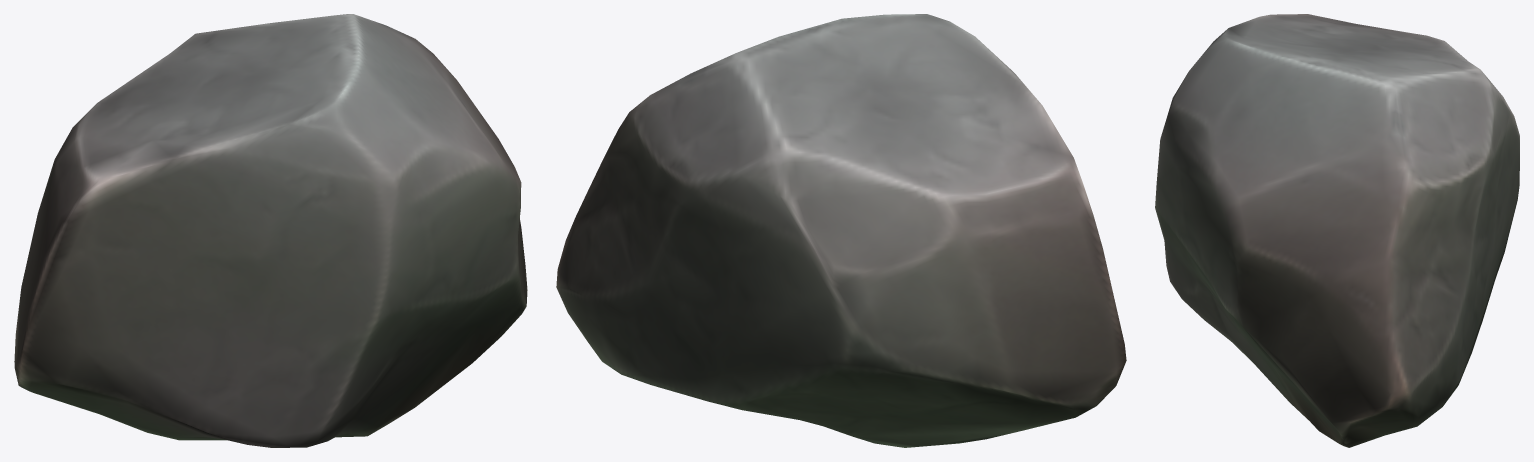
File: o3_roccia_05.glb
3 views of the same model, side by side, from view 1: azimuth 30°, elevation 25°; view 2: azimuth 150°, elevation 25°; view 3: azimuth 270°, elevation 25° (orthographic). The views are drawn at different scales.
Visible parts, largest first — view 1: sb_modello; view 2: sb_modello; view 3: sb_modello.
Part boxes in pixels (box(x1,y1,x2,y2)): sb_modello: box(14, 14, 527, 447); sb_modello: box(556, 14, 1126, 447); sb_modello: box(1155, 14, 1519, 447).
Size of the model in its own units: 1.76 by 1.22 by 1.16.
1 material, 1 textured.
